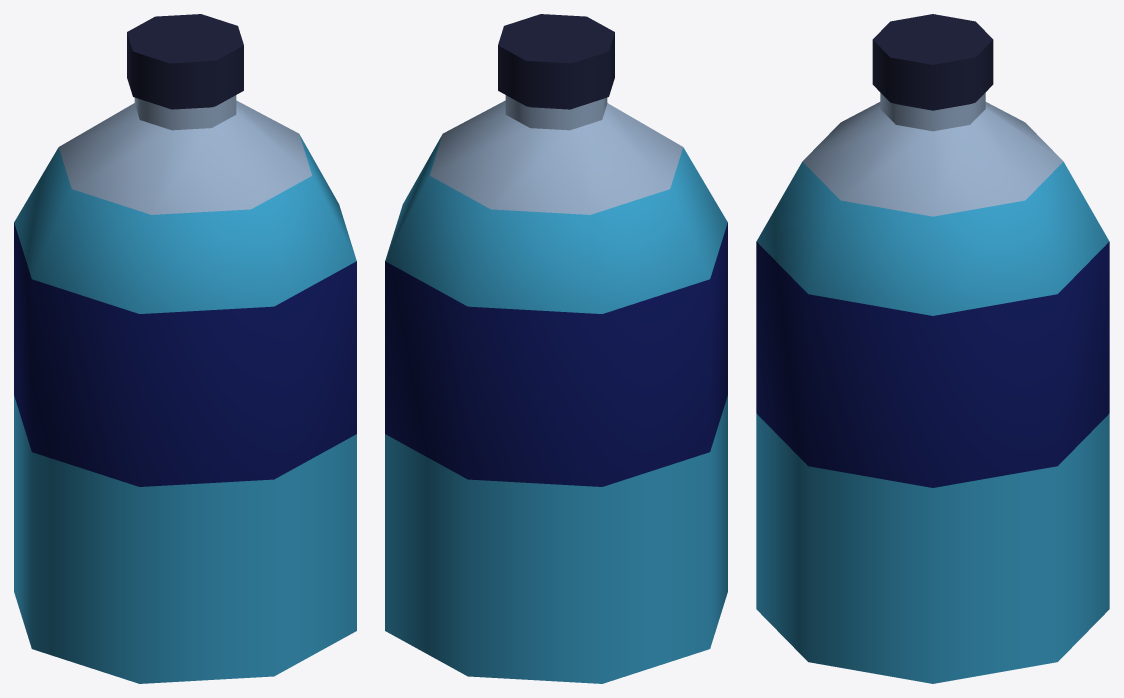
Rendered from Cooling.fbx.
The picture shows the model from 3 angles, left to right: view 1: azimuth 30°, elevation 25°; view 2: azimuth 150°, elevation 25°; view 3: azimuth 270°, elevation 25°; orthographic projection.
Parts seen in each view (by area): view 1: Cooling; view 2: Cooling; view 3: Cooling.
Part boxes in pixels (bbox=[...]): Cooling: bbox=[14, 14, 356, 683]; Cooling: bbox=[385, 14, 727, 683]; Cooling: bbox=[756, 14, 1109, 683].
Bounding box in the file's own units: 50.01 × 89.08 × 50.01.
